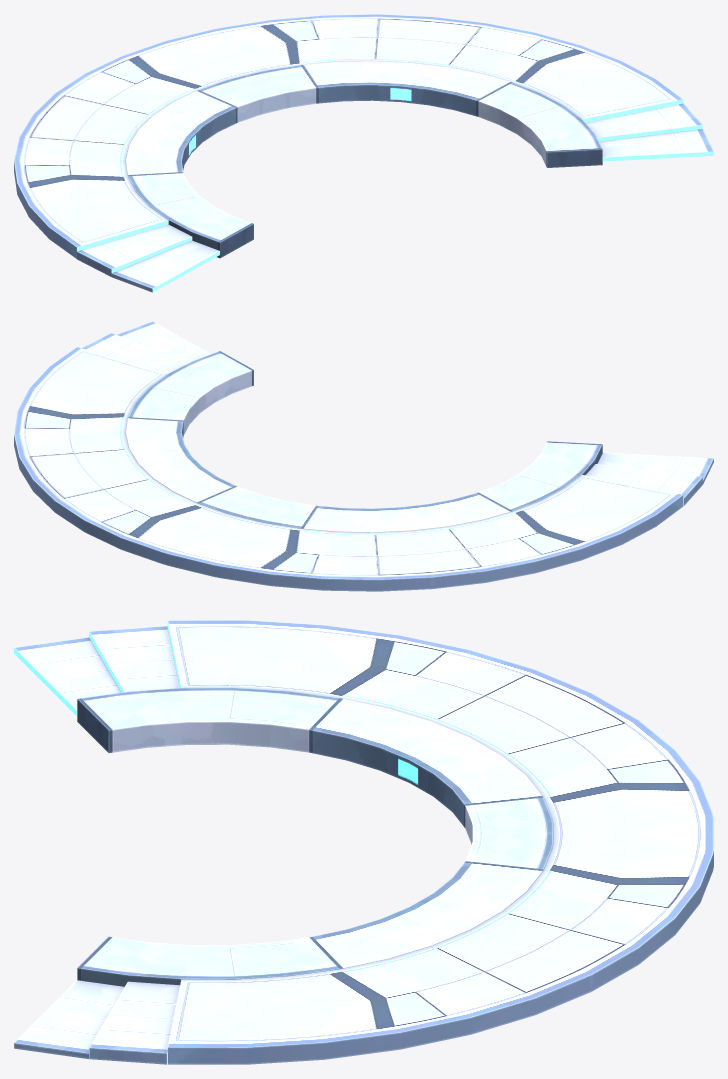
The model's file is obj_mstairs.gltf.
3 renders of one model, top to bottom at view 1: azimuth 30°, elevation 25°; view 2: azimuth 150°, elevation 25°; view 3: azimuth 270°, elevation 25°, orthographic. The views are drawn at different scales.
Parts seen in each view (by area): view 1: obj_mstairs; view 2: obj_mstairs; view 3: obj_mstairs.
Part boxes in pixels (x1,y1,x2,y2): obj_mstairs: (14, 14, 713, 292); obj_mstairs: (14, 321, 713, 591); obj_mstairs: (14, 620, 713, 1064).
Size of what is drawn, in the model's own units: 34.63 by 0.8672 by 23.97.
4 materials, 4 textured.
